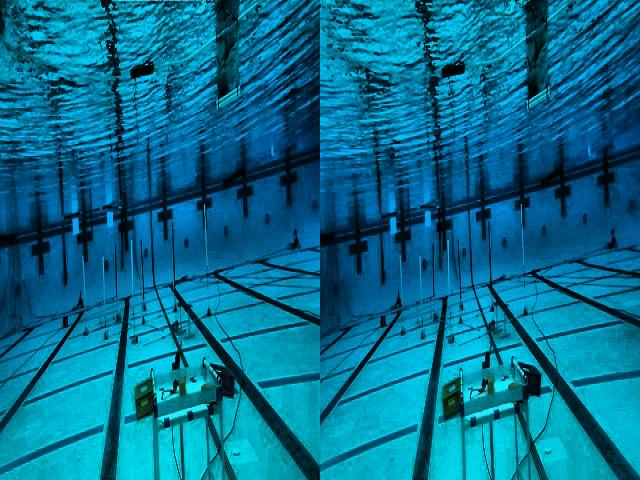gate: (62, 206, 124, 286), (378, 208, 444, 282)
octagon_table: (133, 364, 239, 477), (443, 372, 541, 480)
octagon_top: (0, 0, 262, 110), (320, 0, 574, 111)
path_marker: (176, 302, 195, 342), (493, 301, 511, 340)
shark: (215, 32, 239, 94), (527, 32, 549, 94)
